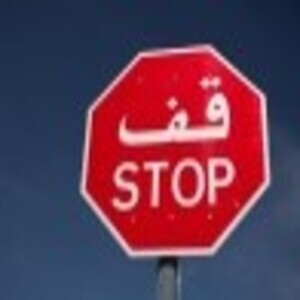stop: (82, 45, 271, 258)
